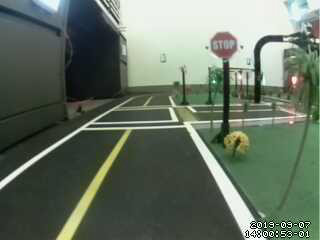Stop_Sign: (206, 30, 243, 62)
